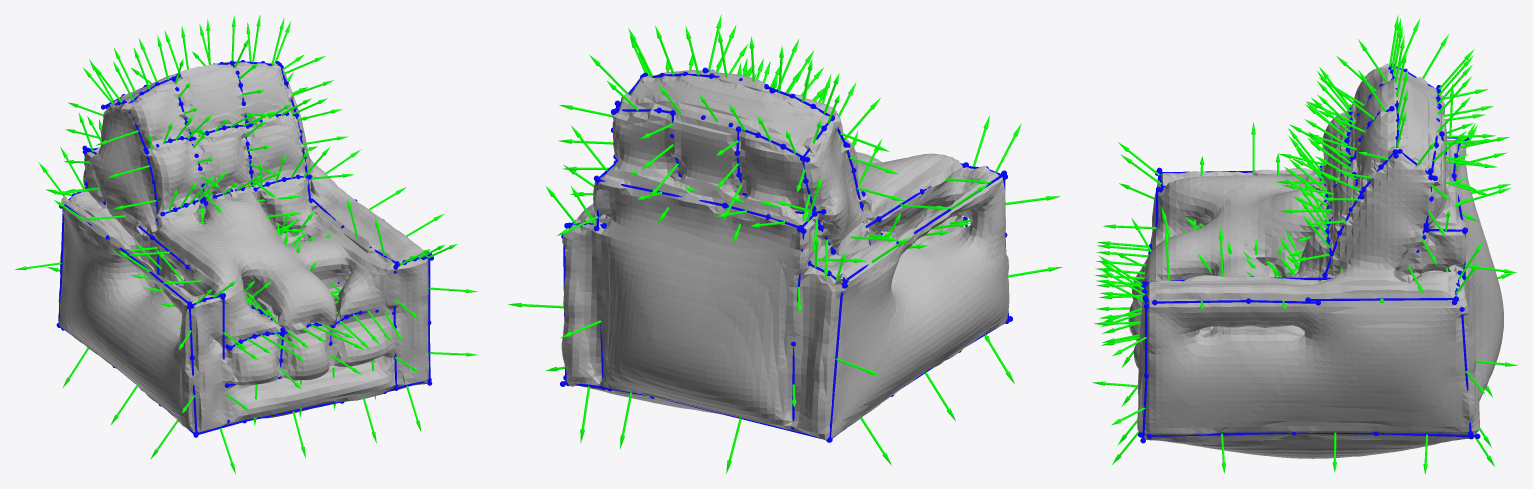
File: author2_sofa.gltf
3 views of the same model, side by side, from view 1: azimuth 30°, elevation 25°; view 2: azimuth 150°, elevation 25°; view 3: azimuth 270°, elevation 25° (orthographic). The views are drawn at different scales.
Bounding box in the file's own units: 0.7176 × 0.7658 × 0.774.
